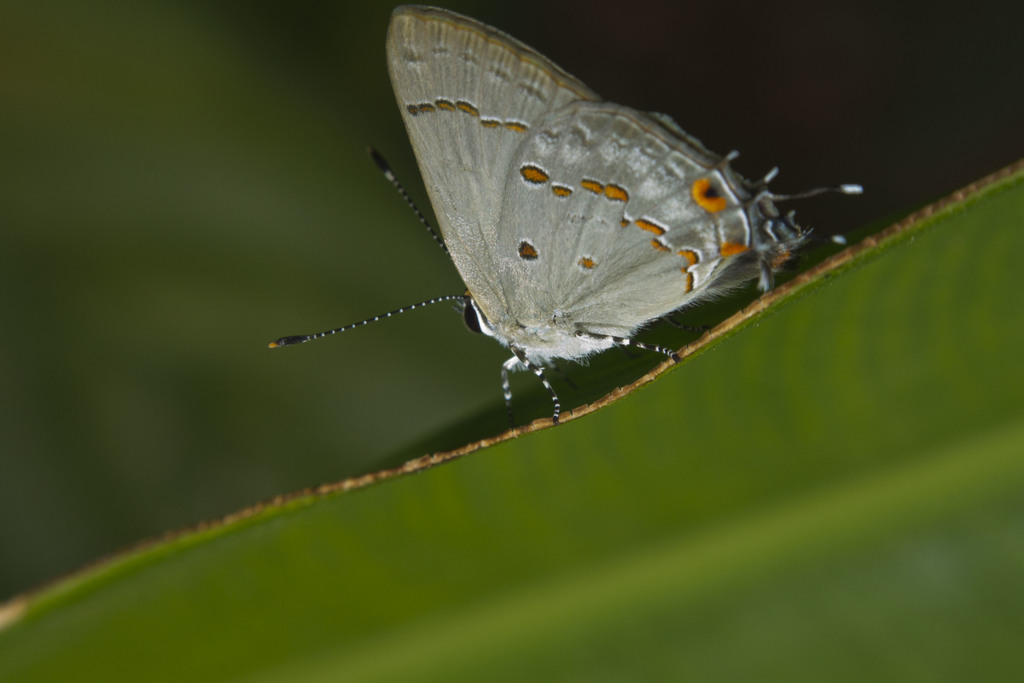Butterfly: (254, 2, 885, 462)
